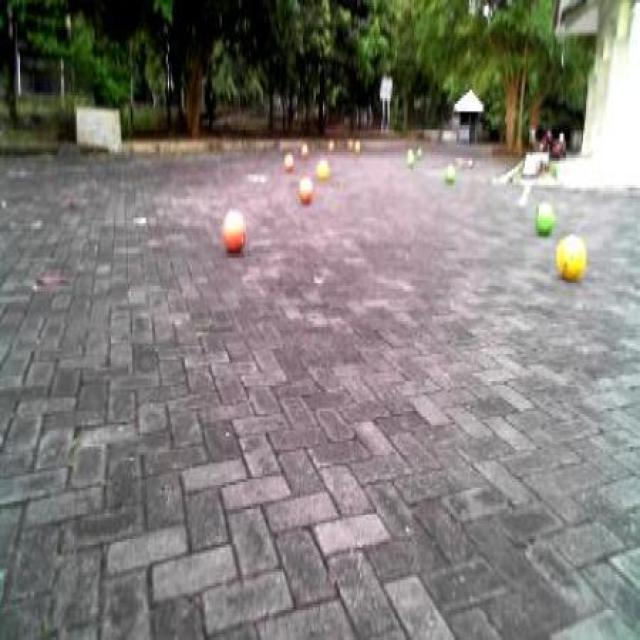buoy: (551, 223, 591, 292), (218, 202, 250, 259), (534, 194, 554, 238), (297, 171, 312, 207)
